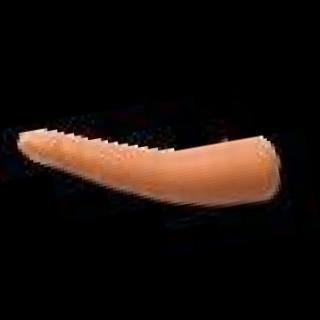Wortel: (1, 69, 302, 272)
